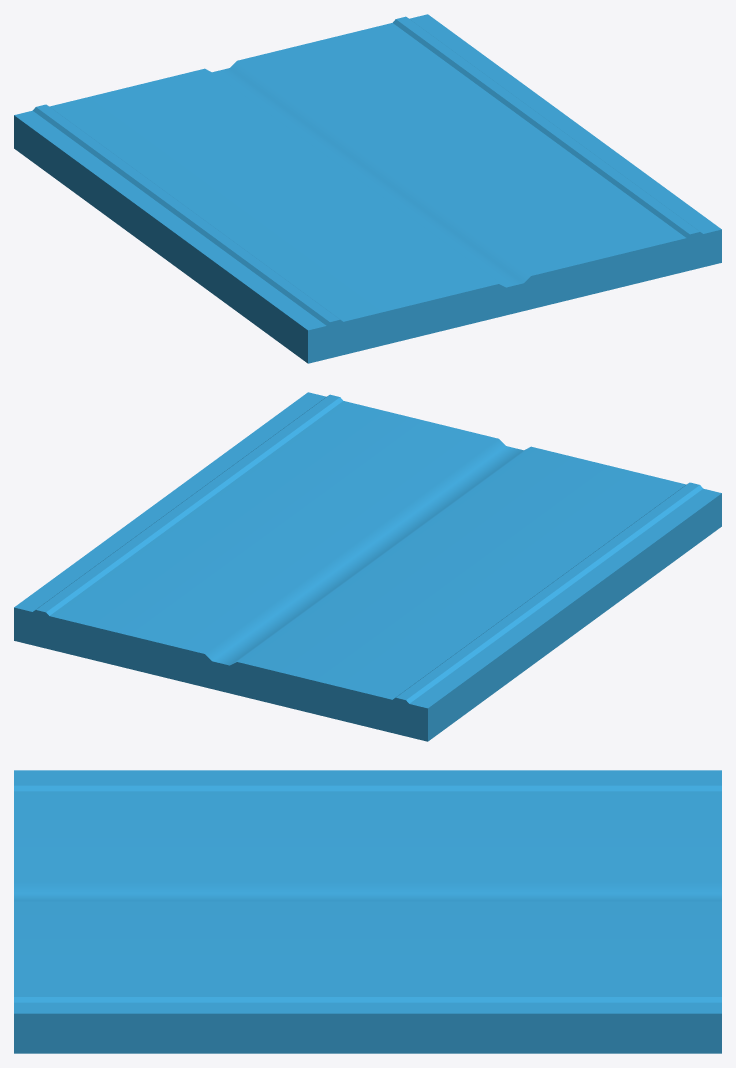
Rendered from ShipFloorEntry.fbx.
3 views of the same model, one above another, from view 1: azimuth 30°, elevation 25°; view 2: azimuth 150°, elevation 25°; view 3: azimuth 270°, elevation 25° (orthographic). The views are drawn at different scales.
Parts seen in each view (by area): view 1: FloorEntry; view 2: FloorEntry; view 3: FloorEntry.
Boxes of the visible parts, bbox=[...] form: FloorEntry: bbox=[14, 14, 721, 363]; FloorEntry: bbox=[14, 392, 721, 741]; FloorEntry: bbox=[14, 770, 721, 1053].
Bounding box in the file's own units: 3.25 × 0.2719 × 4.
